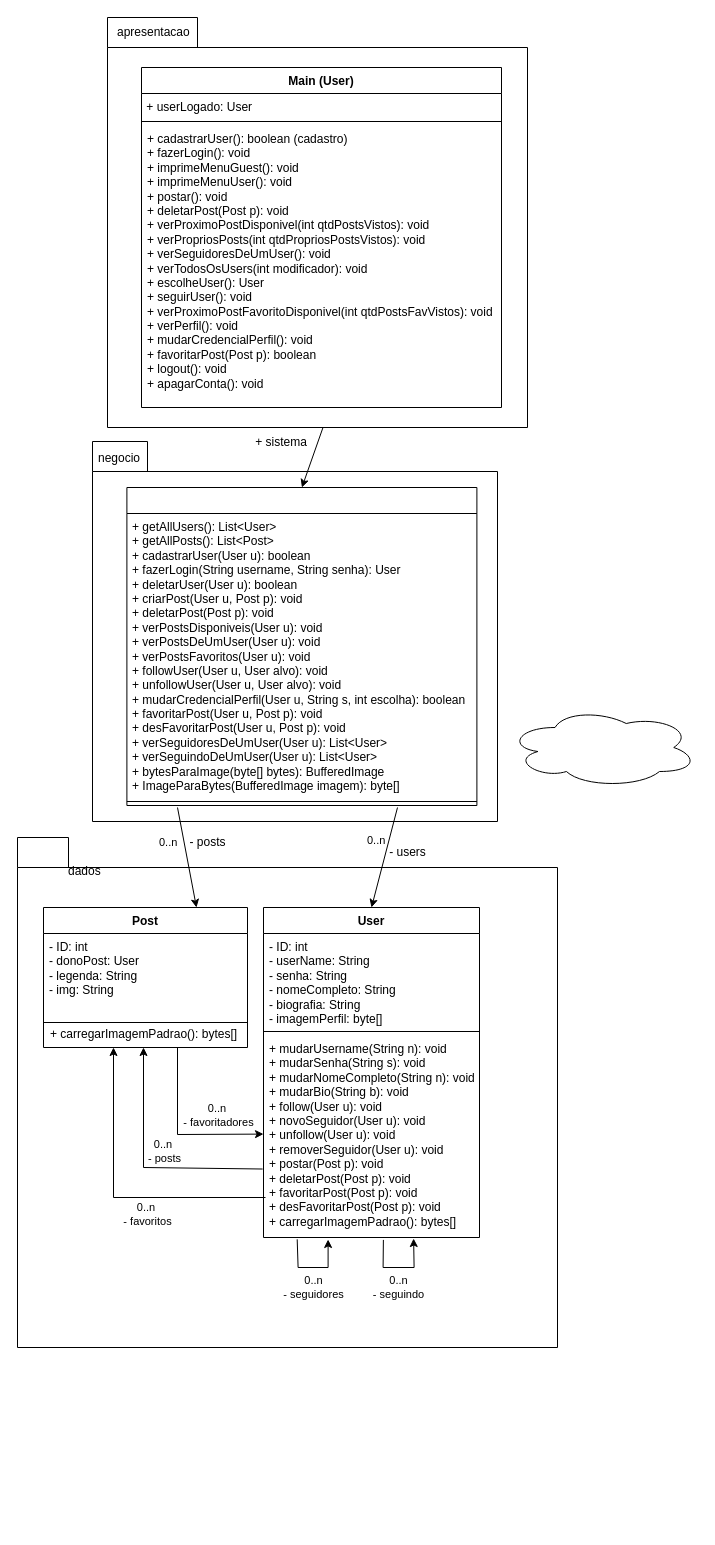
Some shapes in this 715 by 1545 pixel diagram are drawn without their labels. Here are the shapes that lost their labels. From the top down, the box of each, then its label:
(126, 486, 477, 806): Sistema
(506, 706, 698, 788): mudarCredencialPerfil() funciona para cada uma das 4 informações do perfil
